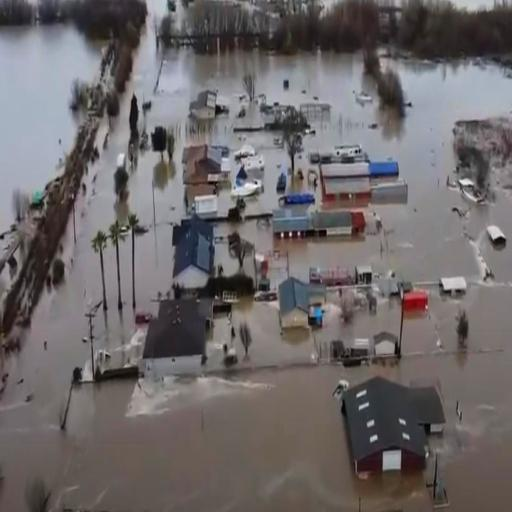flood: (0, 0, 200, 512), (0, 349, 512, 512), (362, 58, 512, 280), (0, 22, 103, 232), (229, 49, 381, 150), (214, 219, 380, 288), (198, 94, 288, 204), (205, 298, 313, 372), (403, 285, 512, 357), (190, 49, 254, 104), (452, 0, 504, 9), (322, 0, 339, 7)
house: (335, 373, 447, 477), (144, 296, 212, 378), (320, 160, 408, 202), (272, 208, 368, 242), (172, 222, 214, 291), (279, 272, 325, 328), (184, 145, 234, 185), (192, 191, 232, 220), (192, 90, 218, 122)
